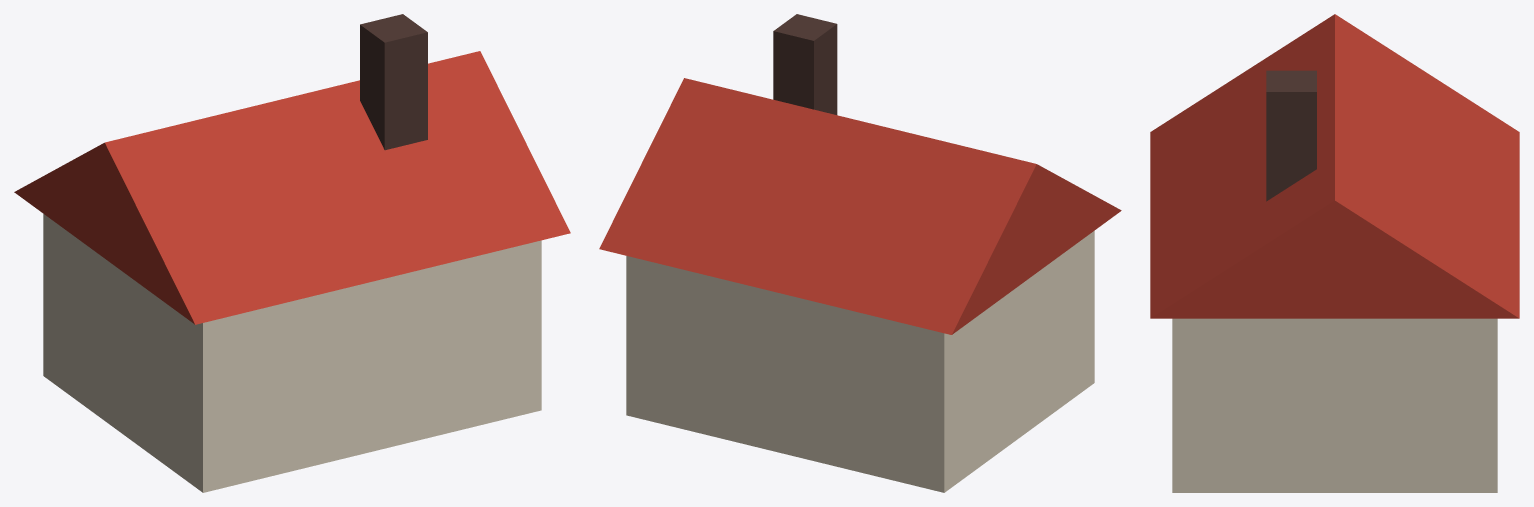
File: plain_house.obj
3 renders of one model, left to right at view 1: azimuth 30°, elevation 25°; view 2: azimuth 150°, elevation 25°; view 3: azimuth 270°, elevation 25°, orthographic. The views are drawn at different scales.
Visible parts, largest first — view 1: PlainHouse; view 2: PlainHouse; view 3: PlainHouse.
Part boxes in pixels (x1=…): PlainHouse: x1=14, y1=14, x2=570, y2=492; PlainHouse: x1=599, y1=14, x2=1121, y2=492; PlainHouse: x1=1150, y1=14, x2=1519, y2=492.
Size of the model in its own units: 0.61 by 0.56 by 0.51.
